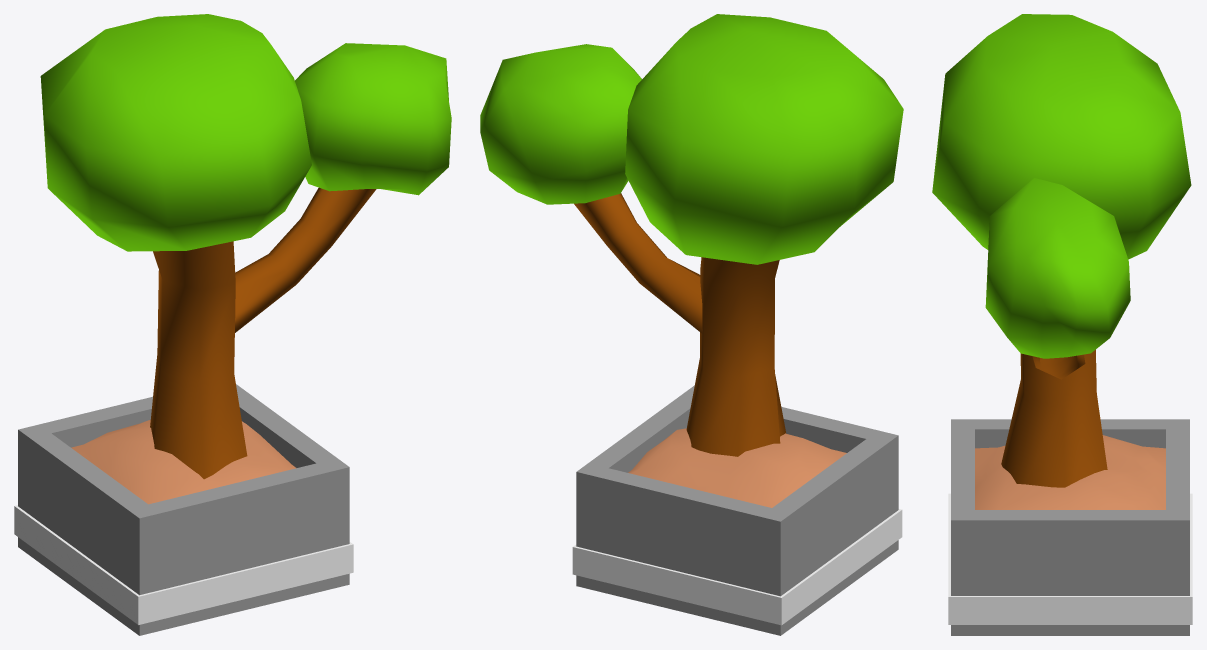
The model's file is SM_Tree_03.FBX.
The picture shows the model from 3 angles, left to right: view 1: azimuth 30°, elevation 25°; view 2: azimuth 150°, elevation 25°; view 3: azimuth 270°, elevation 25°; orthographic projection. The views are drawn at different scales.
Visible parts, largest first — view 1: SM_Tree_03; view 2: SM_Tree_03; view 3: SM_Tree_03.
Boxes of the visible parts, x1,y1,x2,y2 form: SM_Tree_03: [14, 14, 451, 635]; SM_Tree_03: [480, 14, 903, 635]; SM_Tree_03: [932, 14, 1192, 635].
Bounding box in the file's own units: 1.68 × 2.22 × 0.9719.
1 material, 1 textured.
